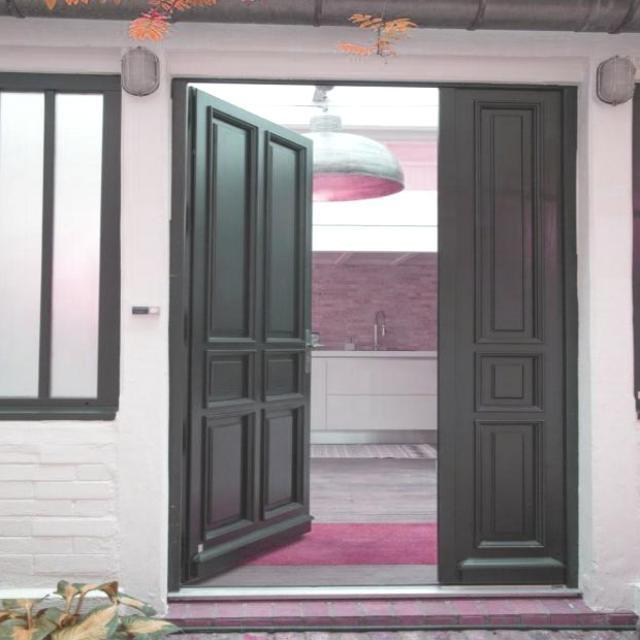door: (180, 87, 313, 582)
